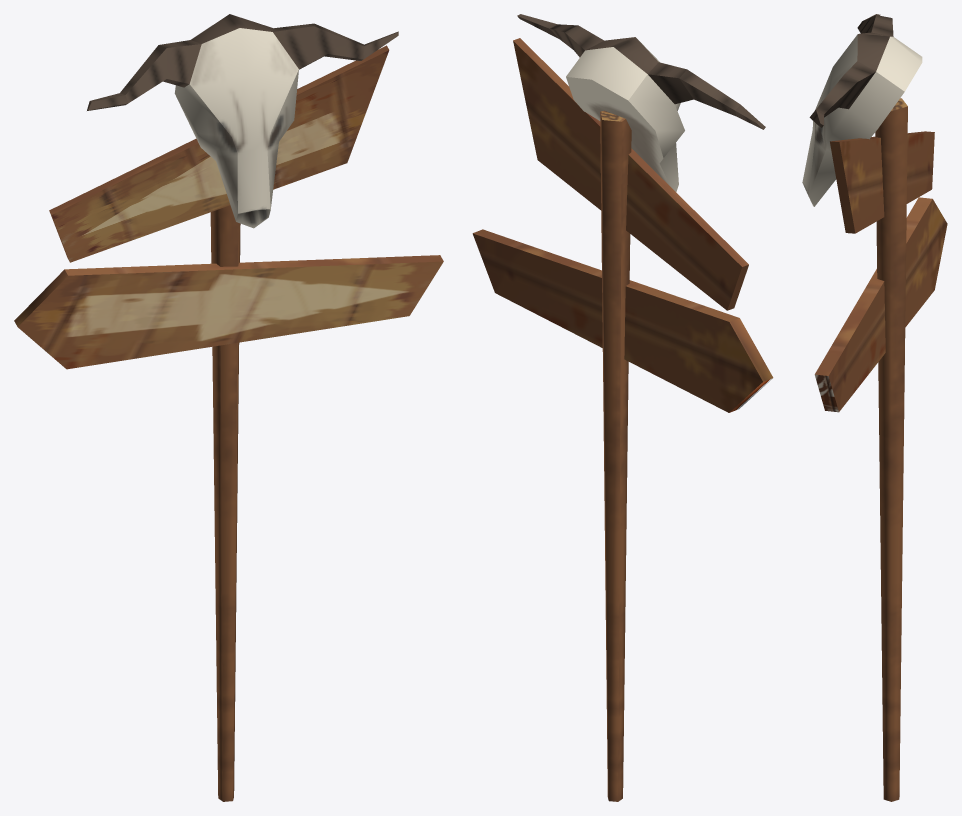
The model's file is panneaux.FBX.
3 views of the same model, side by side, from view 1: azimuth 30°, elevation 25°; view 2: azimuth 150°, elevation 25°; view 3: azimuth 270°, elevation 25° (orthographic). The views are drawn at different scales.
Parts seen in each view (by area): view 1: Cylinder001; view 2: Cylinder001; view 3: Cylinder001.
Part boxes in pixels (x1,y1,x2,y2): Cylinder001: [14, 14, 443, 801]; Cylinder001: [472, 14, 773, 801]; Cylinder001: [802, 14, 947, 801].
Bounding box in the file's own units: 116 × 235 × 40.61.
Materials: 1 (1 with a texture image).
